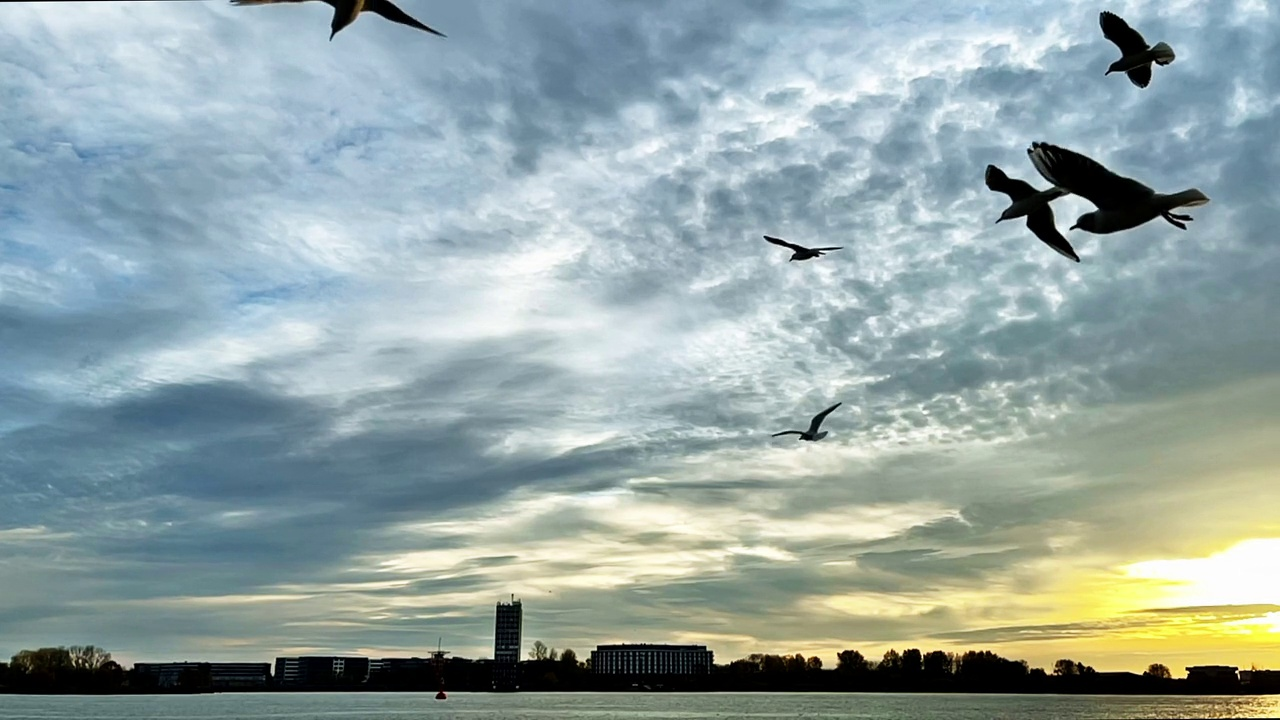bird: (1026, 140, 1208, 235), (983, 163, 1078, 262), (226, 1, 447, 41), (1098, 12, 1174, 91), (770, 402, 842, 443), (763, 230, 843, 264)
